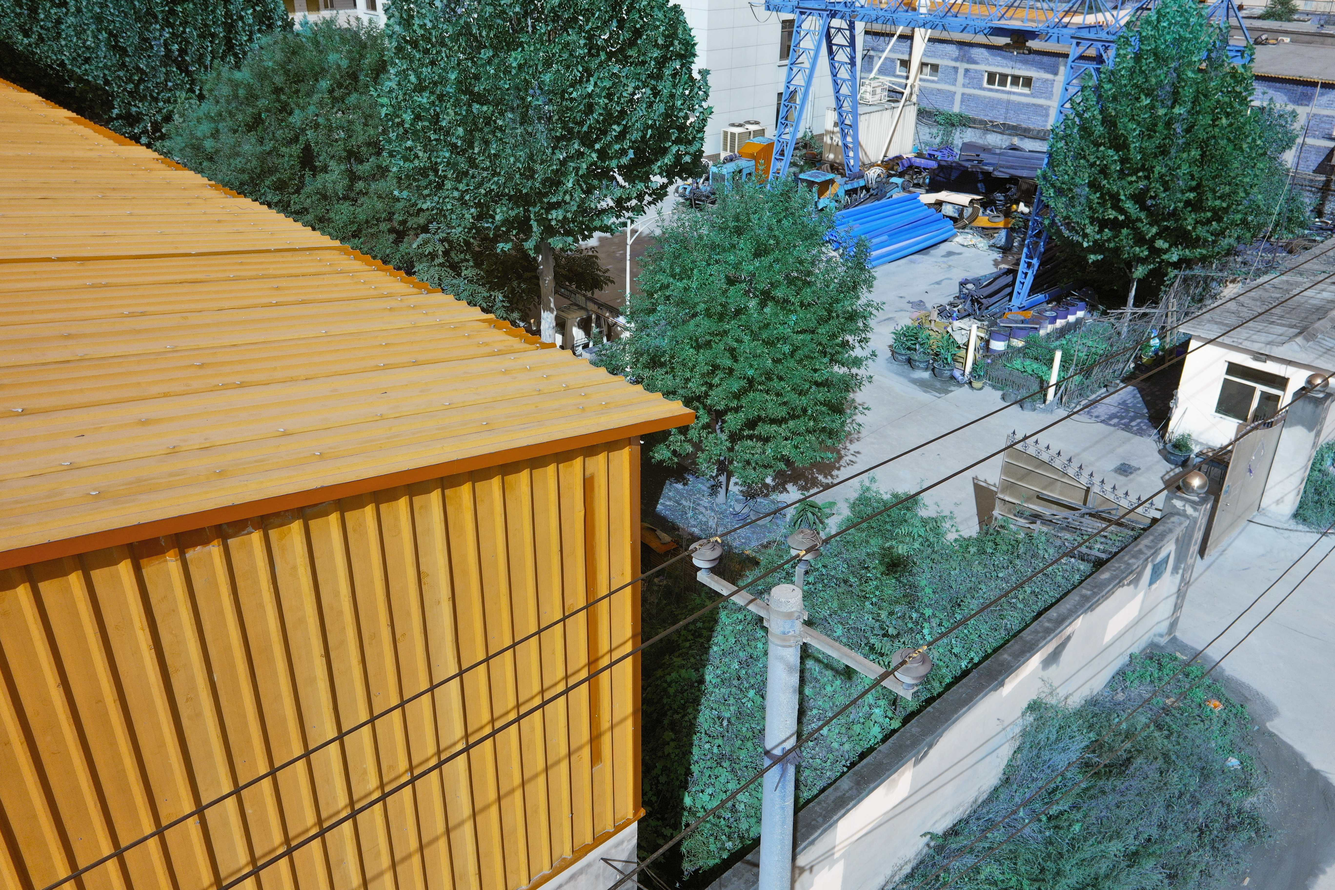severe_soiling_no_discharge_whole: (890, 647, 933, 685), (788, 529, 824, 560), (688, 538, 724, 569)
